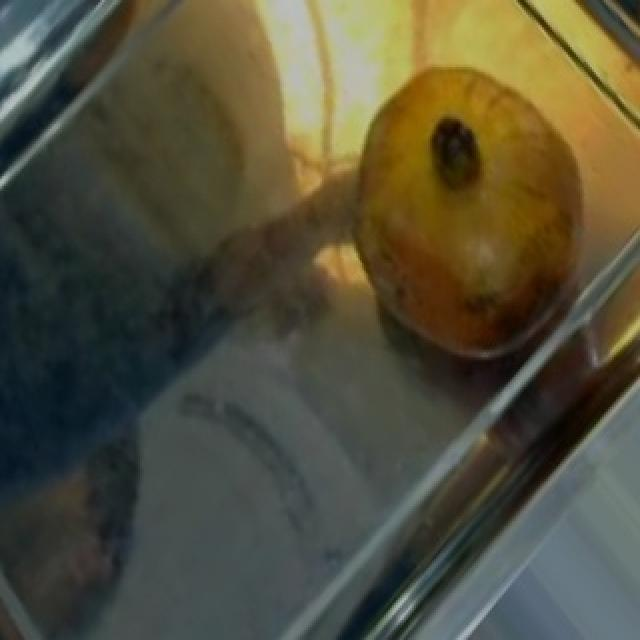fruit: (324, 124, 604, 392)
